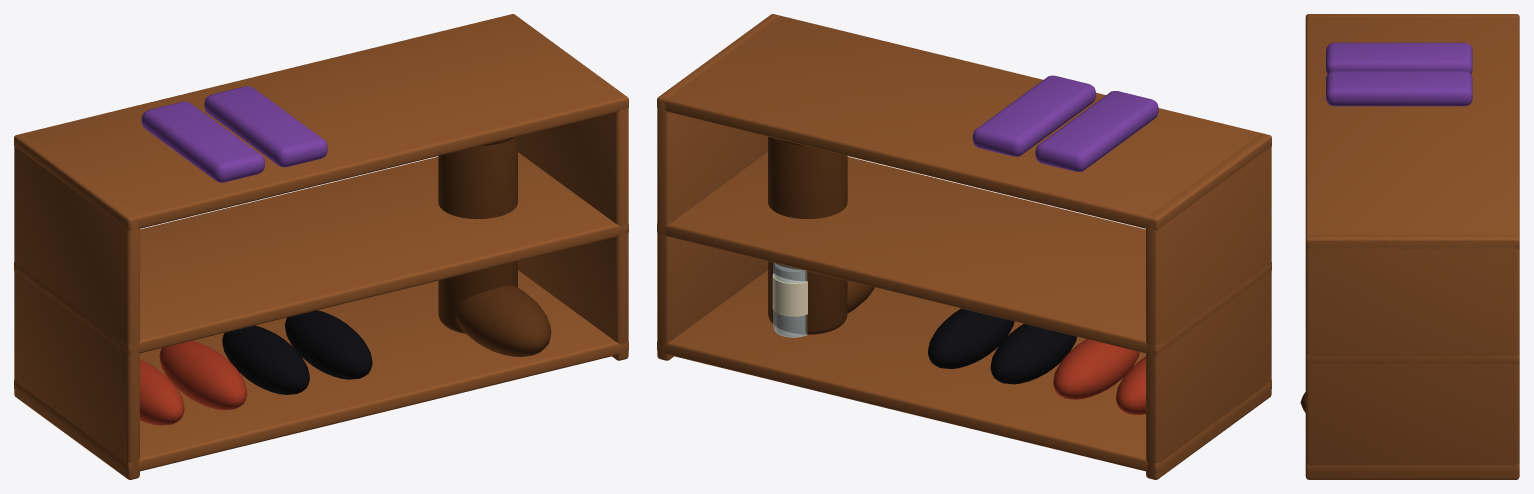
Rendered from shoe_shelf.glb.
The picture shows the model from 3 angles, left to right: view 1: azimuth 30°, elevation 25°; view 2: azimuth 150°, elevation 25°; view 3: azimuth 270°, elevation 25°; orthographic projection. The views are drawn at different scales.
Visible parts, largest first — view 1: shoe_shelf, shoe_shelf_boot; view 2: shoe_shelf, shoe_shelf_boot; view 3: shoe_shelf.
Part boxes in pixels (x1,y1,x2,y2): shoe_shelf: [14, 14, 628, 479]; shoe_shelf_boot: [438, 136, 551, 356]; shoe_shelf: [657, 14, 1271, 479]; shoe_shelf_boot: [768, 136, 874, 334]; shoe_shelf: [1305, 14, 1519, 479].
Bounding box in the file's own units: 0.8 × 0.43 × 0.328.
